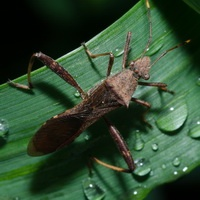insect: (0, 0, 199, 198)
